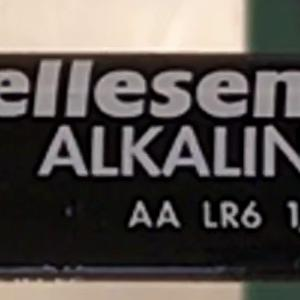ALK: (30, 117, 159, 185)
